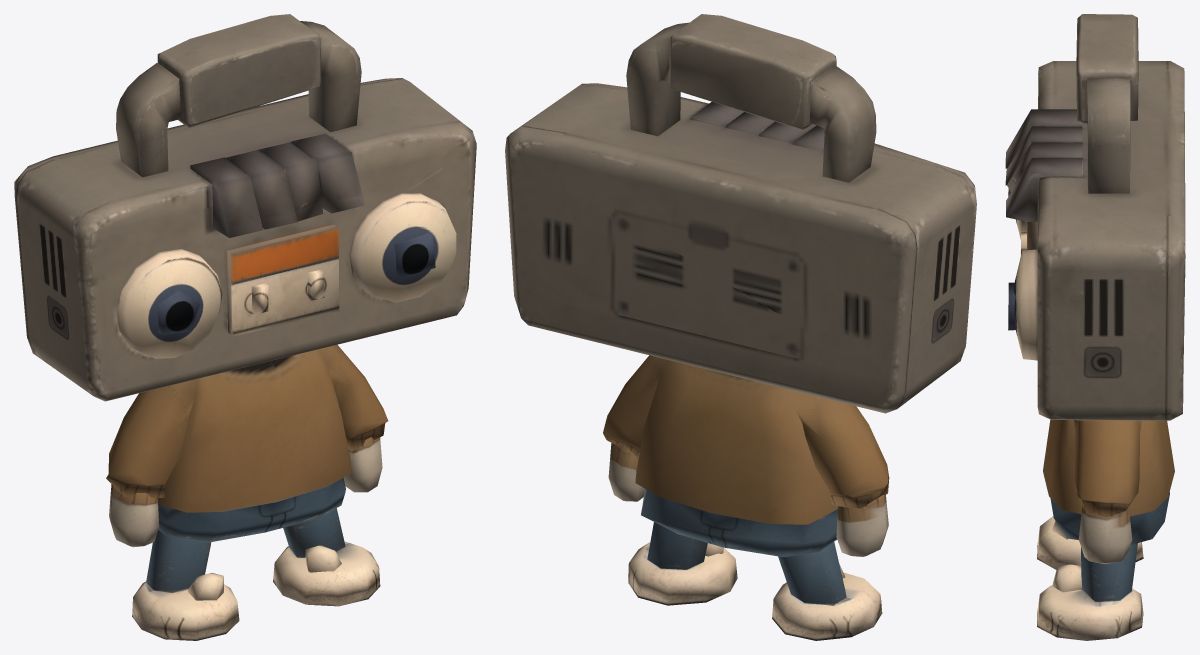
The model's file is juke.glb.
3 renders of one model, left to right at view 1: azimuth 30°, elevation 25°; view 2: azimuth 150°, elevation 25°; view 3: azimuth 270°, elevation 25°, orthographic. The views are drawn at different scales.
Parts seen in each view (by area): view 1: head, torso, handle_grip, handle, cassette_door, speaker_R, speaker_L, shoe_R, shoe_L, button_1, button_4, leg_L (+9 smaller); view 2: head, torso, handle_grip, handle, shoe_L, shoe_R, leg_L, hand_L, leg_R, hand_R, button_4, button_3 (+1 smaller); view 3: head, torso, handle, handle_grip, shoe_R, hand_R, button_4, speaker_R, leg_R, shoe_L, button_1, button_2 (+4 smaller).
Part boxes in pixels (x1,y1,x2,y2): head: (14,78,476,401); torso: (106,344,388,542); handle_grip: (157,14,321,127); handle: (116,21,361,177); cassette_door: (226,224,339,336); speaker_R: (349,193,456,302); speaker_L: (116,249,222,358); shoe_R: (273,541,380,606); shoe_L: (132,581,239,640); button_1: (190,157,263,237); button_4: (291,133,364,213); leg_L: (146,530,211,593); head: (505,83,976,413); torso: (603,355,889,557); handle_grip: (669,14,836,130); handle: (626,22,876,182); shoe_L: (772,572,882,640); shoe_R: (628,542,737,605); leg_L: (778,542,846,605); hand_L: (836,495,888,556); leg_R: (647,522,707,569); hand_R: (608,443,644,501); button_4: (690,102,743,127); button_3: (726,112,774,135); head: (1037,61,1185,420); torso: (1043,419,1174,544); handle: (1087,78,1130,193); handle_grip: (1076,14,1138,124); shoe_R: (1037,585,1143,640); hand_R: (1078,506,1132,564); button_4: (1006,158,1082,221); speaker_R: (1013,249,1037,360); leg_R: (1081,543,1137,601); shoe_L: (1037,516,1143,569); button_1: (1005,109,1082,168); button_2: (1005,126,1082,185).
Bounding box in the file's own units: 0.7523 × 1 × 0.2987.
Materials: 1 (1 with a texture image).
